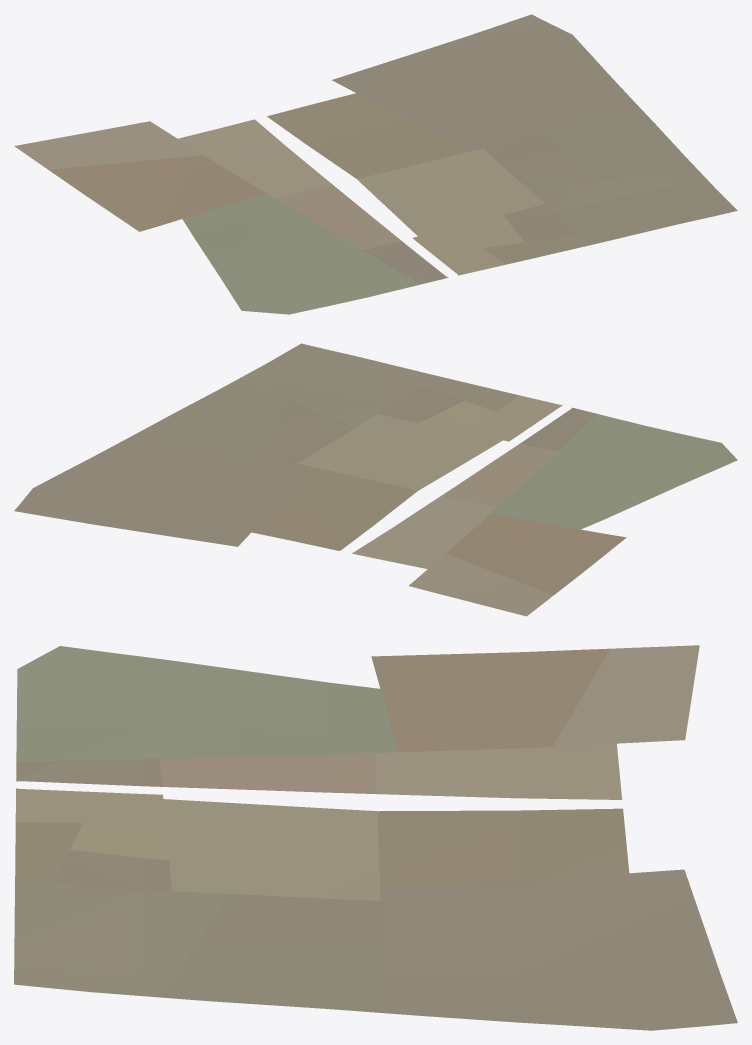
Rendered from farm_13_20_soil.glb.
The picture shows the model from 3 angles, top to bottom: view 1: azimuth 30°, elevation 25°; view 2: azimuth 150°, elevation 25°; view 3: azimuth 270°, elevation 25°; orthographic projection. The views are drawn at different scales.
Parts seen in each view (by area): view 1: geometry_0; view 2: geometry_0; view 3: geometry_0.
Part boxes in pixels (x1,y1,x2,y2): geometry_0: (14,14,737,314); geometry_0: (14,343,737,616); geometry_0: (14,645,737,1030).
Size of the model in its own units: 378 by 6.12 by 309.
